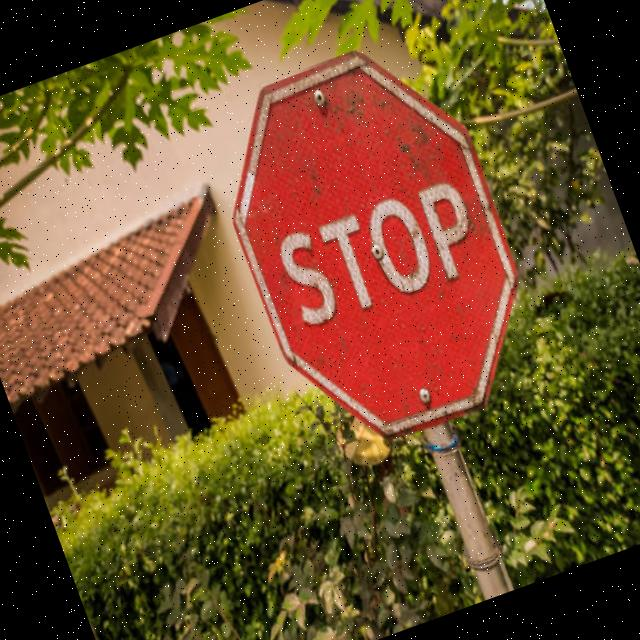stop: (186, 18, 563, 480)
